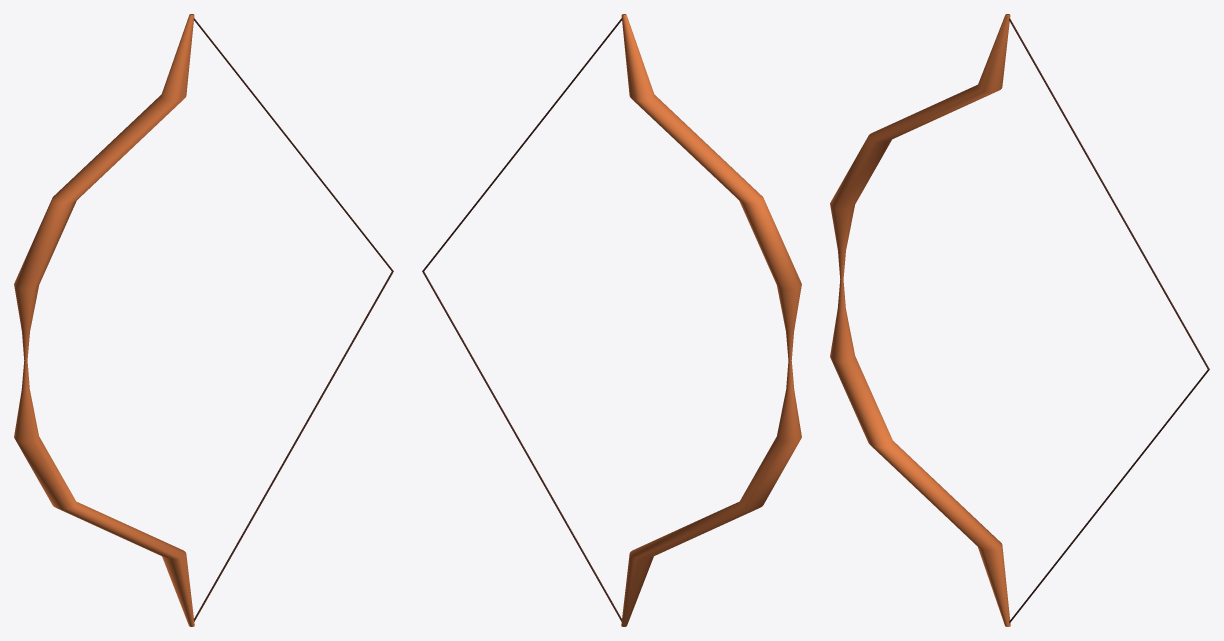
File: elf_bow.fbx
3 renders of one model, left to right at view 1: azimuth 30°, elevation 25°; view 2: azimuth 150°, elevation 25°; view 3: azimuth 330°, elevation 25°, orthographic.
Visible parts, largest first — view 1: Bow, String; view 2: Bow, String; view 3: Bow, String.
Boxes of the visible parts, <box> form: Bow: <box>14,14,194,626</box>; String: <box>194,18,393,621</box>; Bow: <box>621,14,801,626</box>; String: <box>422,18,621,621</box>; Bow: <box>830,14,1010,626</box>; String: <box>1009,18,1209,623</box>.
Bounding box in the file's own units: 545 × 842 × 31.53.
